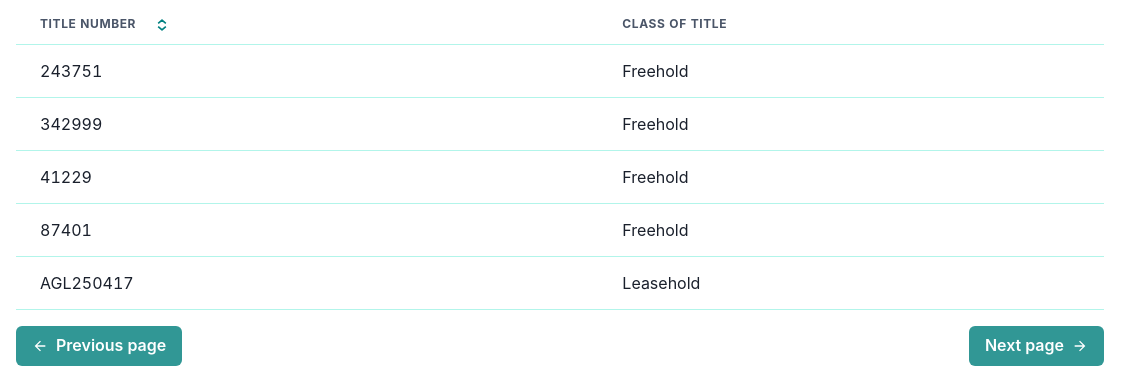
app › should sort the table by title when the 'Title' header is clicked
Check: the cell with test id "title-table-cell" reads "243751", box [16,45,598,98]
Click the icon with test id "sort-icon".
click(162, 24)  # box [156,16,168,31]
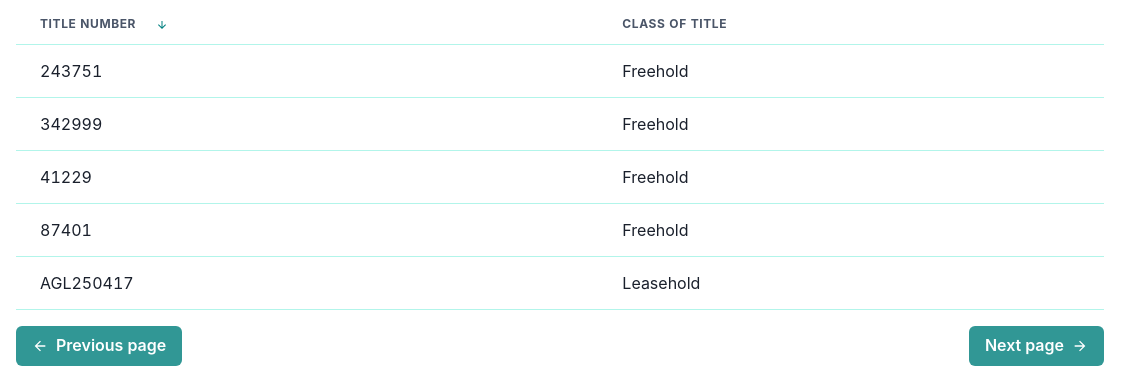
Check: the cell with test id "title-table-cell" reads "243751", box [16,45,598,98]
Click the icon with test id "sort-icon".
click(162, 24)  # box [156,16,168,31]
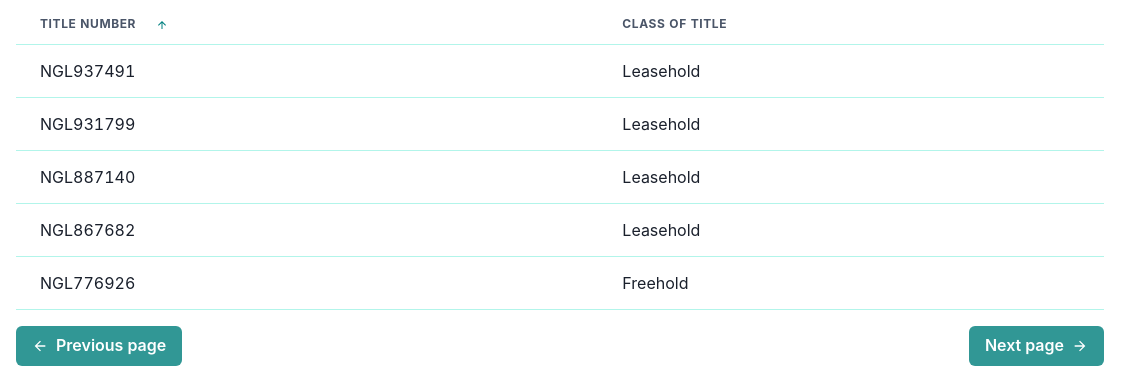
Check: the cell with test id "title-table-cell" reads "NGL937491", box [16,45,598,98]
